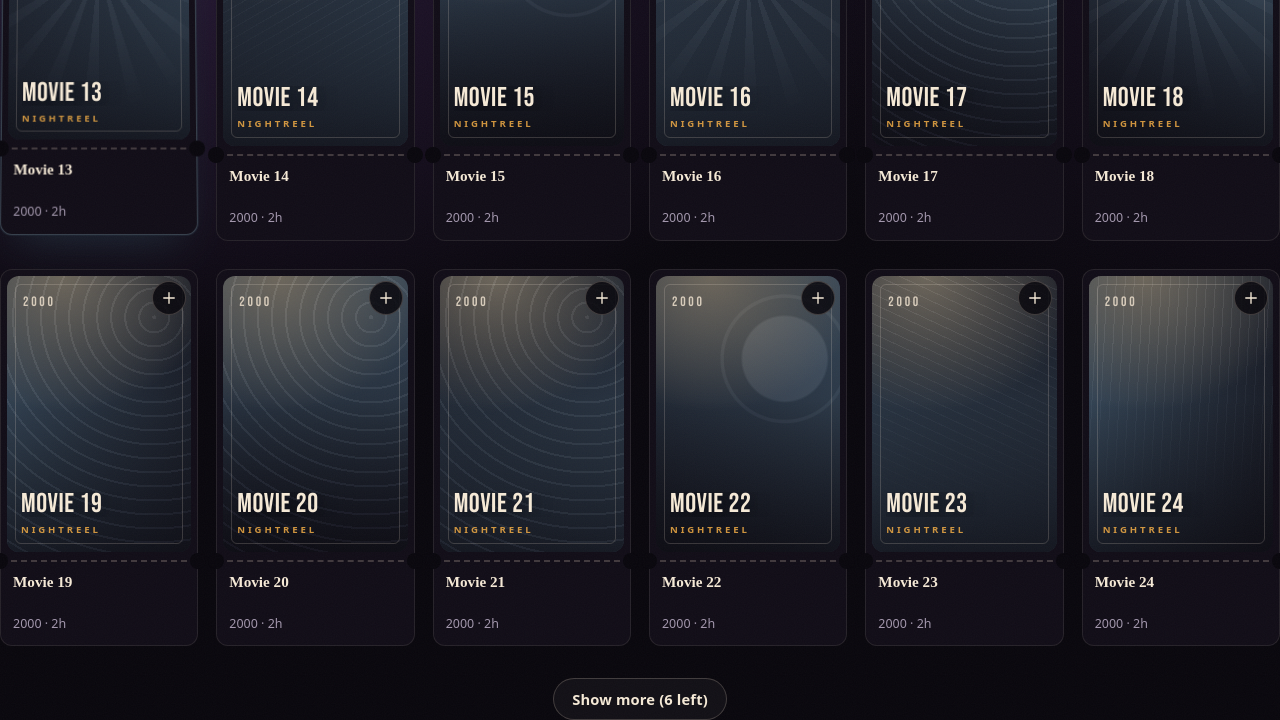
Test: MovieGrid › shows a page of tickets and loads more on request
This screenshot has width=1280, height=720.
(page scrolled)
Step 1. Click the button "Show more (6 left)" → (640, 699), box [553, 678, 727, 719]
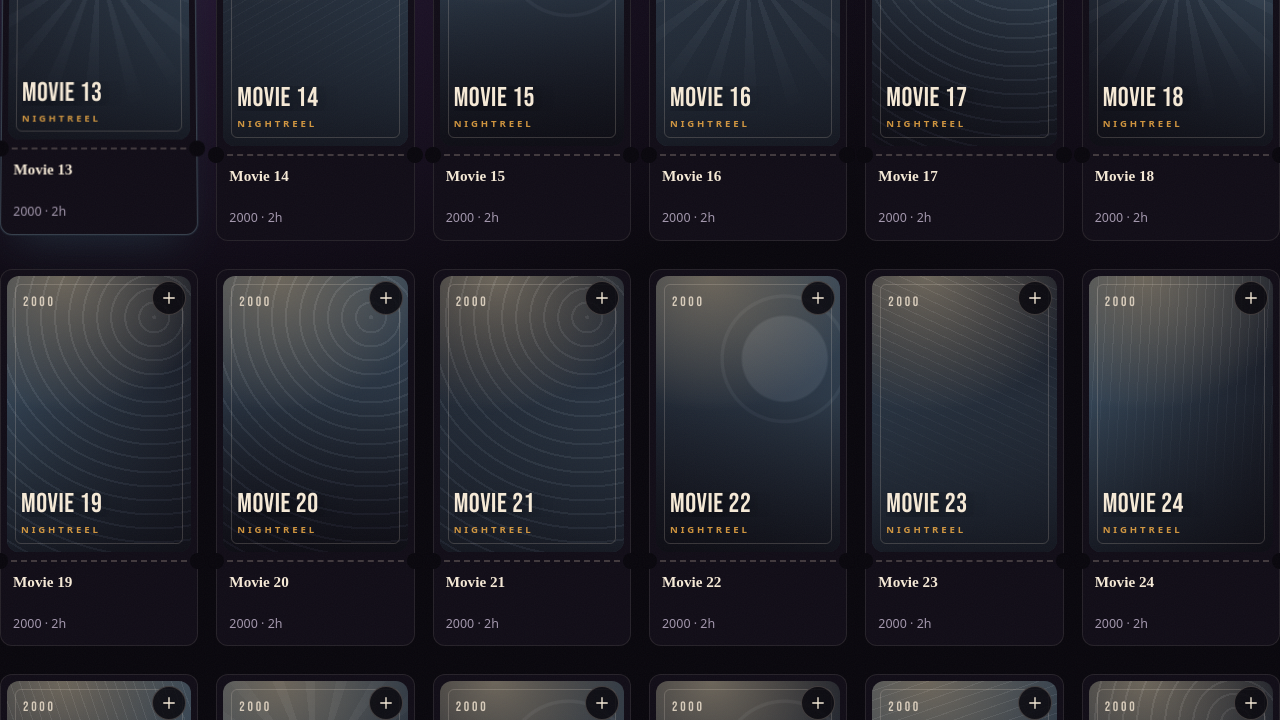
Expected: the button "Show more" is gone
